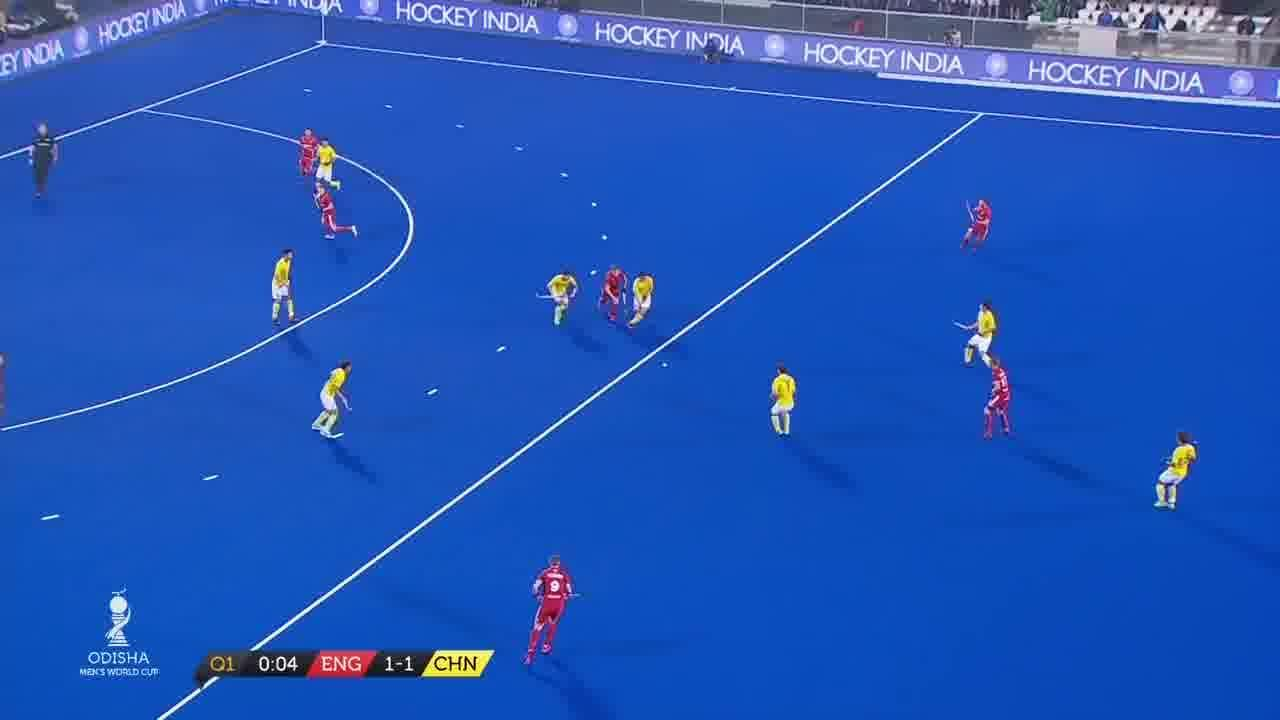ball: (661, 360, 676, 373)
